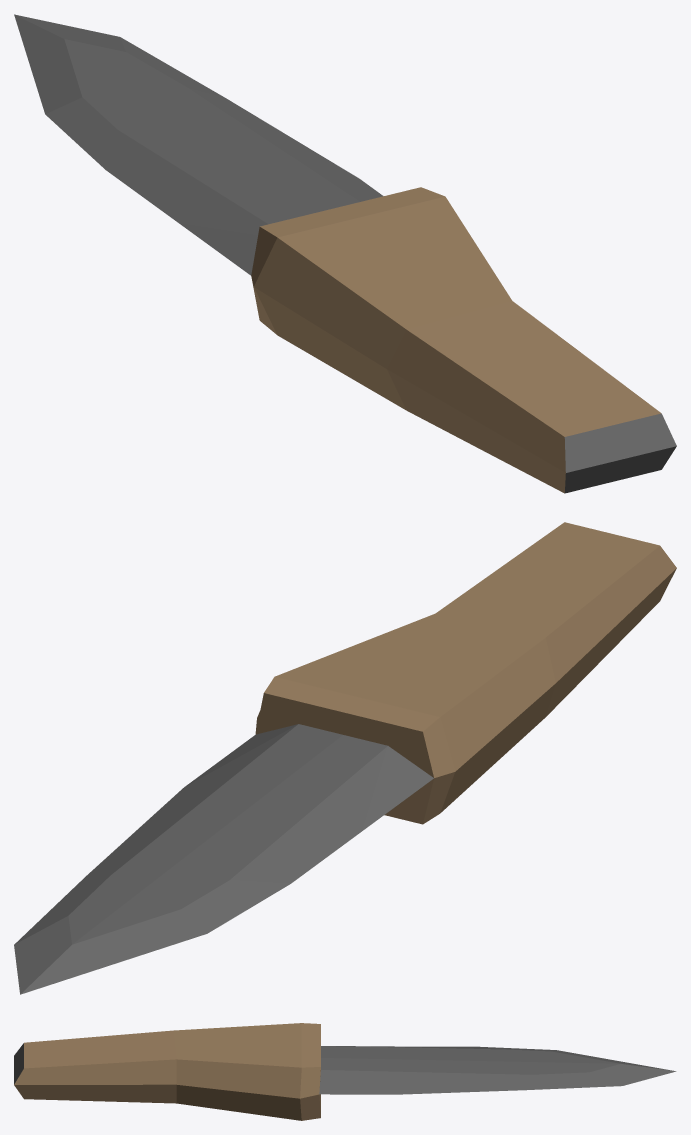
Rendered from knife.fbx.
3 views of the same model, one above another, from view 1: azimuth 30°, elevation 25°; view 2: azimuth 150°, elevation 25°; view 3: azimuth 270°, elevation 25° (orthographic). The views are drawn at different scales.
Parts seen in each view (by area): view 1: Cube.002; view 2: Cube.002; view 3: Cube.002.
Part boxes in pixels (box(x1,y1,x2,y2)): Cube.002: box(14, 14, 676, 493); Cube.002: box(14, 522, 676, 994); Cube.002: box(14, 1023, 676, 1120).
Bounding box in the file's own units: 109 × 49.18 × 555.
